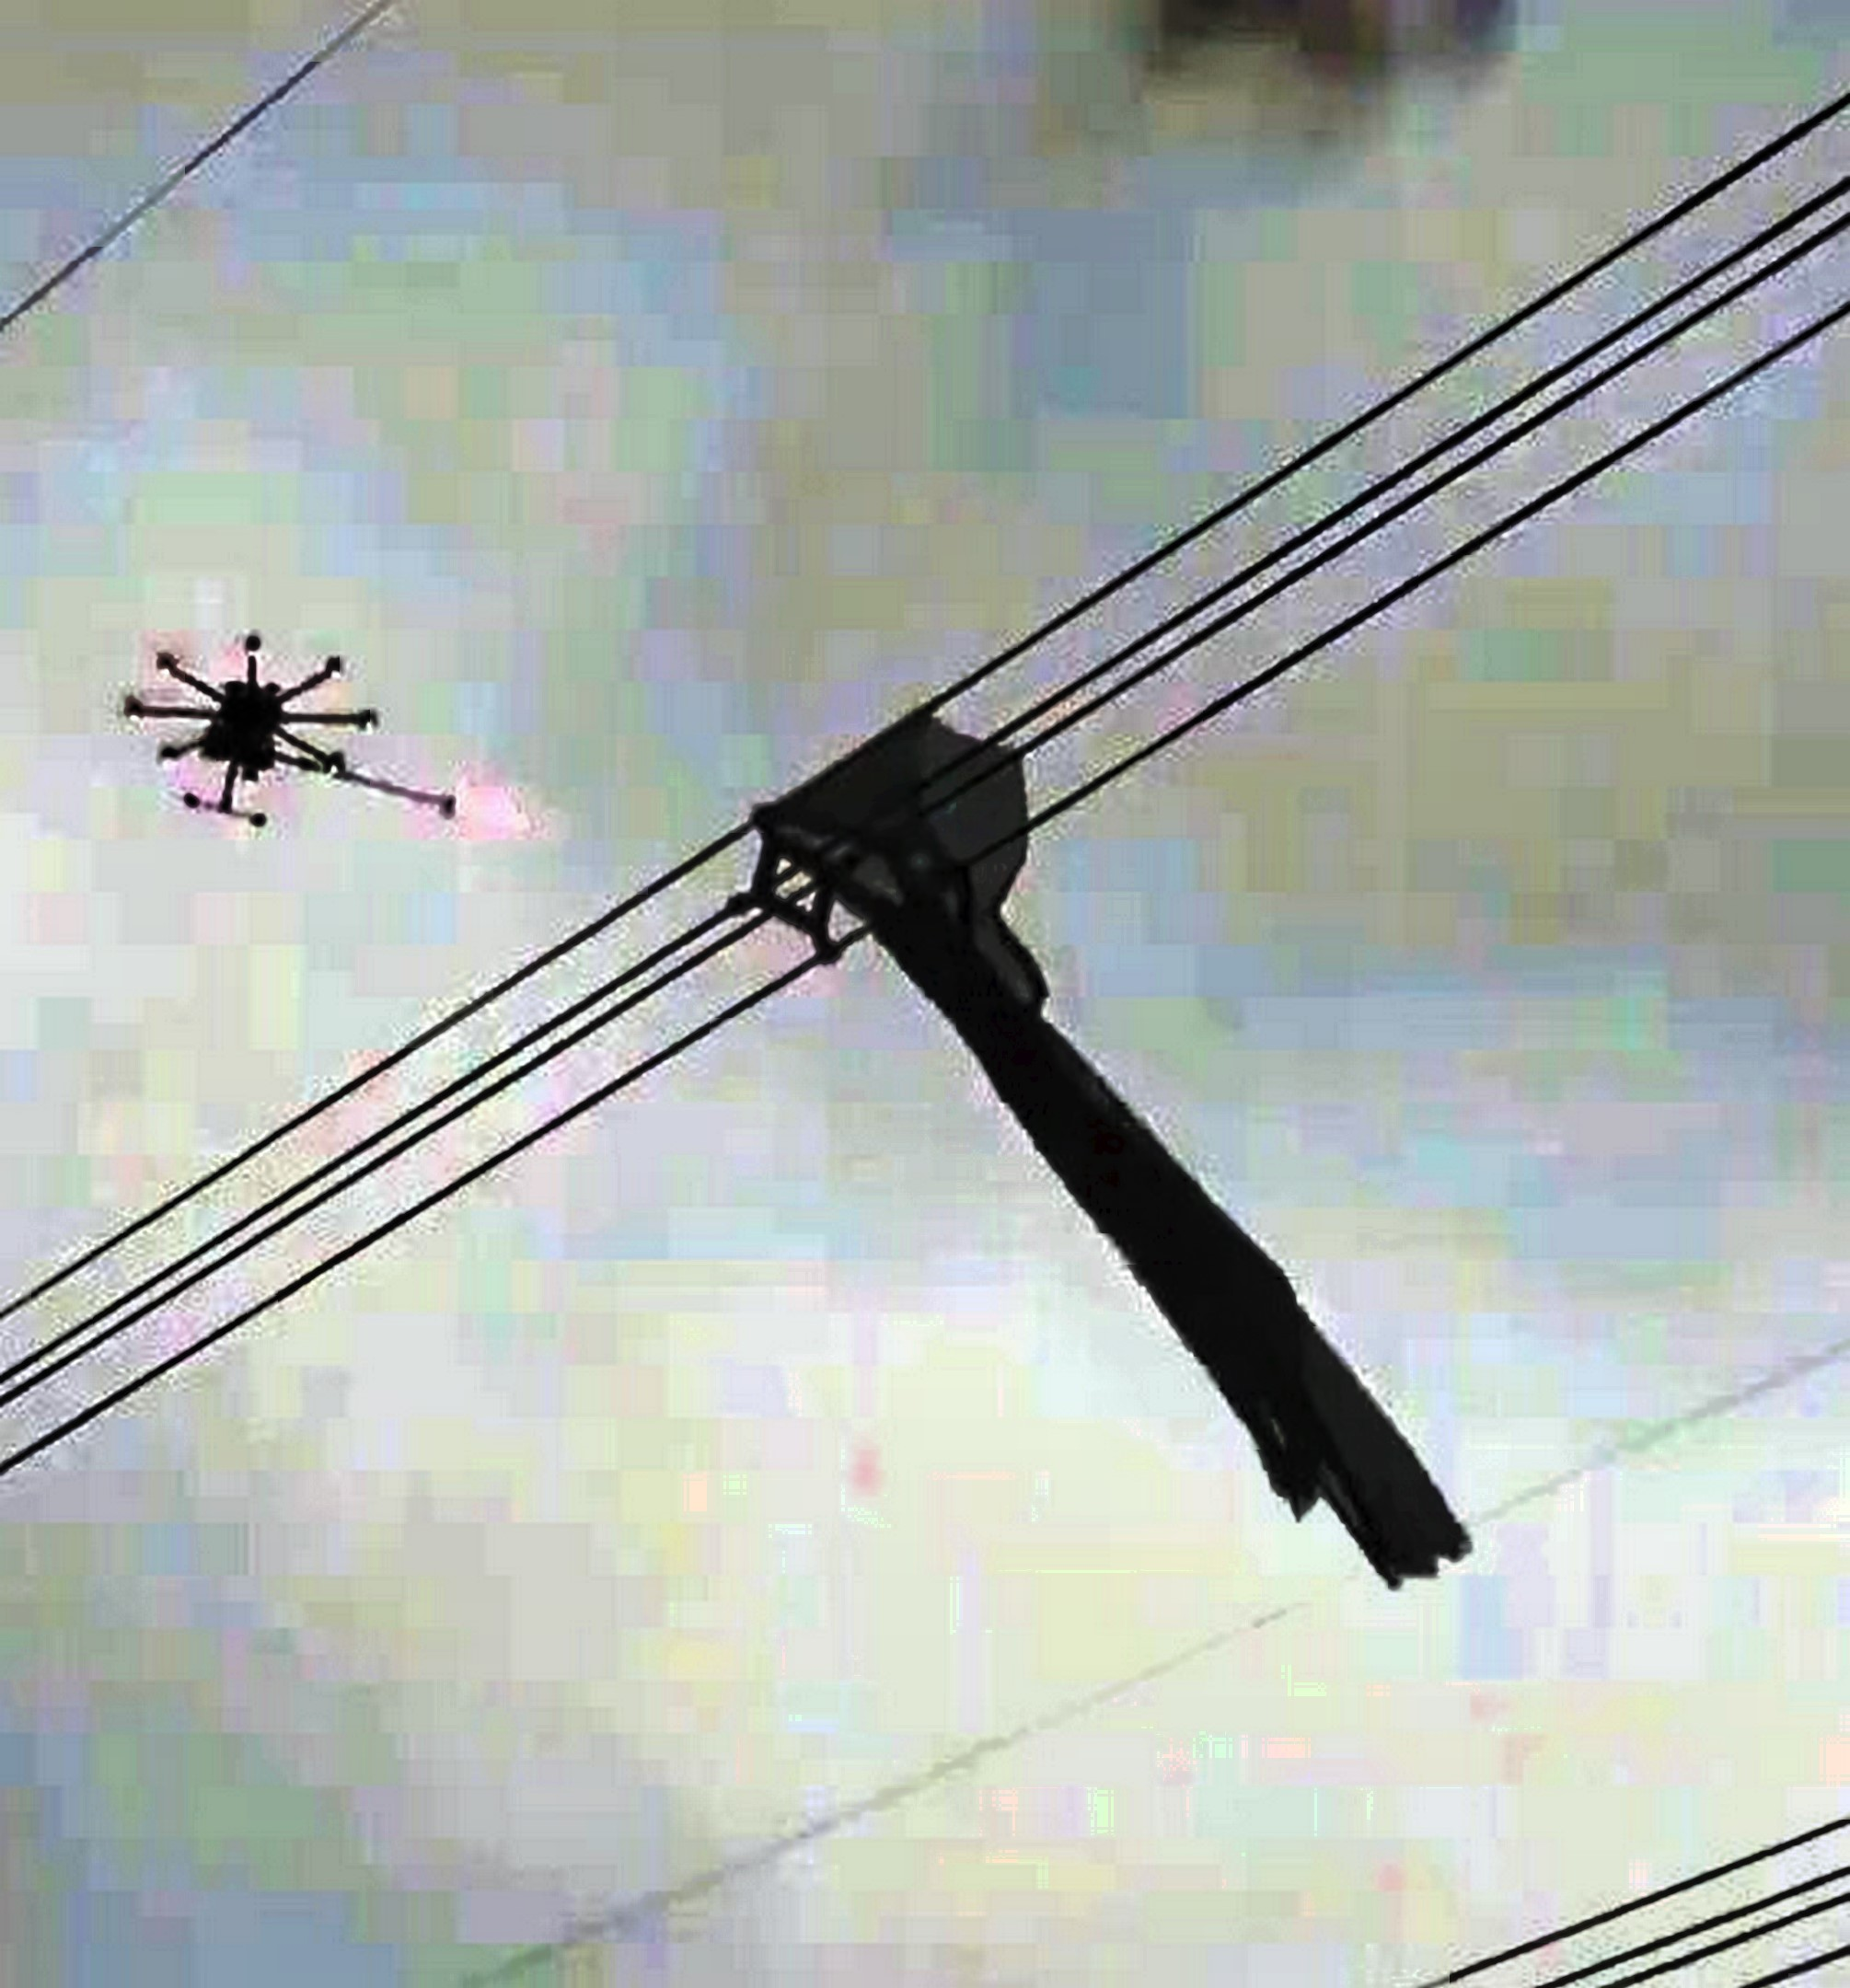wire foreign body: (708, 675, 1495, 1550)
